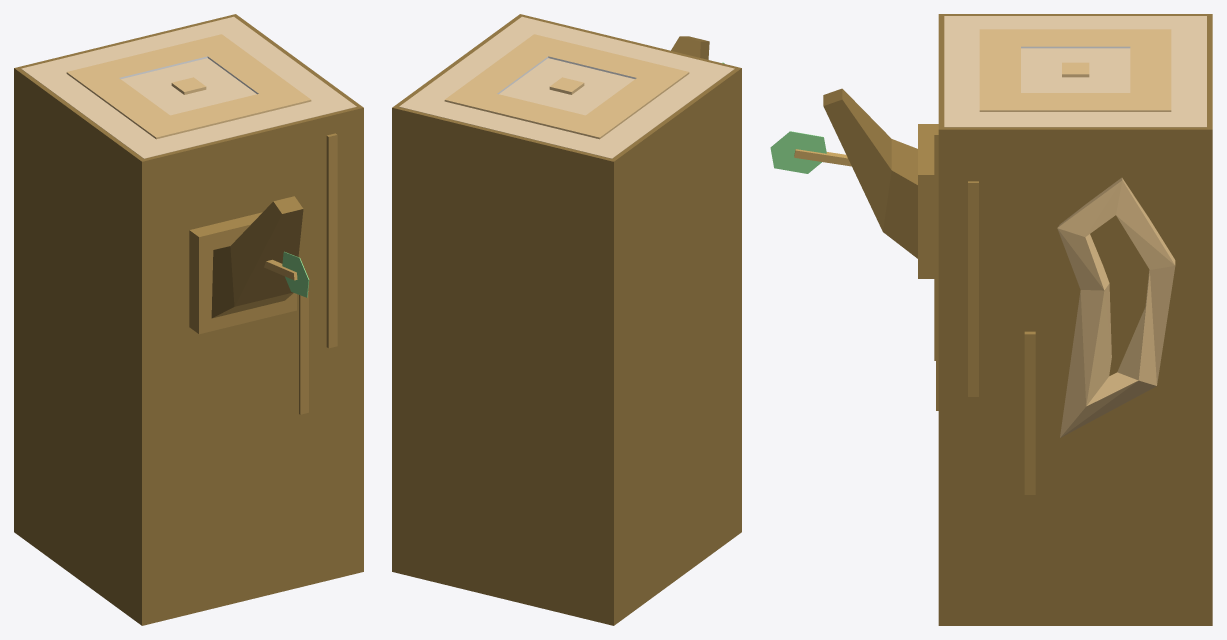
The model's file is trunk1.glb.
3 renders of one model, left to right at view 1: azimuth 30°, elevation 25°; view 2: azimuth 150°, elevation 25°; view 3: azimuth 270°, elevation 25°, orthographic. The views are drawn at different scales.
Parts seen in each view (by area): view 1: Cube.033, Cube.026, Cube.3_2.001, Cube.032, Cube.031, Cube.028, Cube.029, Extrude.010; view 2: Cube.033, Cube.026, Cube.3_2.001, Cube.032; view 3: Cube.033, Cube.026, Sweep.001, Cube.3_2.001, Cube.032, Cube.031, Cube.027, Cube.3_1.001, Extrude.010, Cube.028.
Part boxes in pixels (left/top/right/bottom): Cube.033: left=14, top=14, right=363, bottom=625; Cube.026: left=21, top=16, right=356, bottom=158; Cube.3_2.001: left=66, top=34, right=311, bottom=139; Cube.032: left=211, top=196, right=303, bottom=318; Cube.031: left=189, top=212, right=296, bottom=334; Cube.028: left=326, top=133, right=337, bottom=348; Cube.029: left=299, top=291, right=308, bottom=414; Extrude.010: left=282, top=251, right=309, bottom=297; Cube.033: left=392, top=14, right=741, bottom=625; Cube.026: left=399, top=16, right=734, bottom=158; Cube.3_2.001: left=444, top=34, right=689, bottom=139; Cube.032: left=671, top=36, right=709, bottom=59; Cube.033: left=938, top=14, right=1212, bottom=625; Cube.026: left=944, top=16, right=1206, bottom=127; Sweep.001: left=1057, top=177, right=1175, bottom=437; Cube.3_2.001: left=979, top=29, right=1171, bottom=111; Cube.032: left=823, top=88, right=917, bottom=258; Cube.031: left=918, top=124, right=938, bottom=278; Cube.027: left=968, top=181, right=978, bottom=396; Cube.3_1.001: left=1024, top=331, right=1035, bottom=494; Extrude.010: left=770, top=131, right=826, bottom=173; Cube.028: left=934, top=130, right=938, bottom=360.
Size of the model in its own units: 1.58 by 2.99 by 2.4.
